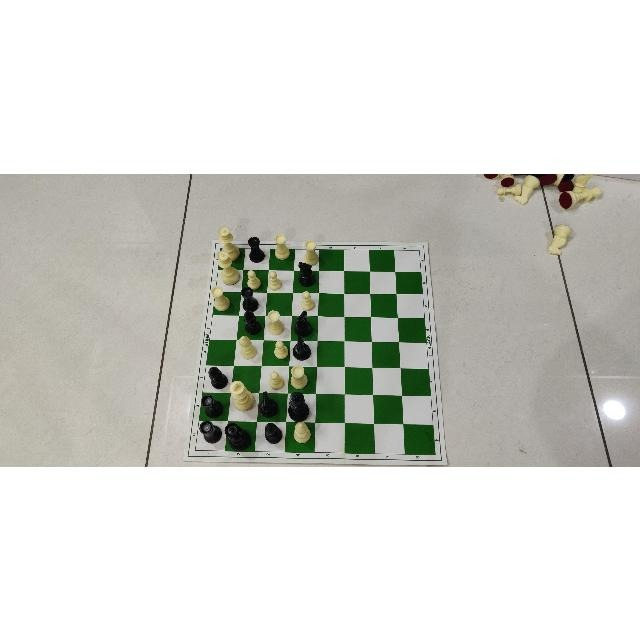black-bishop: (242, 309, 261, 335), (208, 365, 228, 389), (264, 422, 282, 444)
black-king: (287, 391, 309, 421)
black-knight: (258, 389, 279, 417), (292, 333, 312, 361), (293, 309, 313, 337), (296, 260, 316, 286)
black-queen: (223, 421, 250, 451)
black-rook: (198, 418, 222, 443), (200, 394, 224, 418), (239, 285, 259, 311), (246, 236, 265, 262)
white-bishop: (238, 334, 257, 359), (293, 420, 311, 443)
white-king: (229, 379, 255, 411)
white-pawn: (300, 289, 315, 310), (268, 370, 284, 389), (246, 269, 261, 289), (266, 270, 281, 290), (273, 339, 288, 359)
white-queen: (215, 249, 240, 285), (217, 225, 240, 263)
white-rook: (210, 285, 230, 311), (266, 309, 285, 335), (290, 363, 309, 388), (273, 232, 290, 259), (302, 238, 319, 265)
